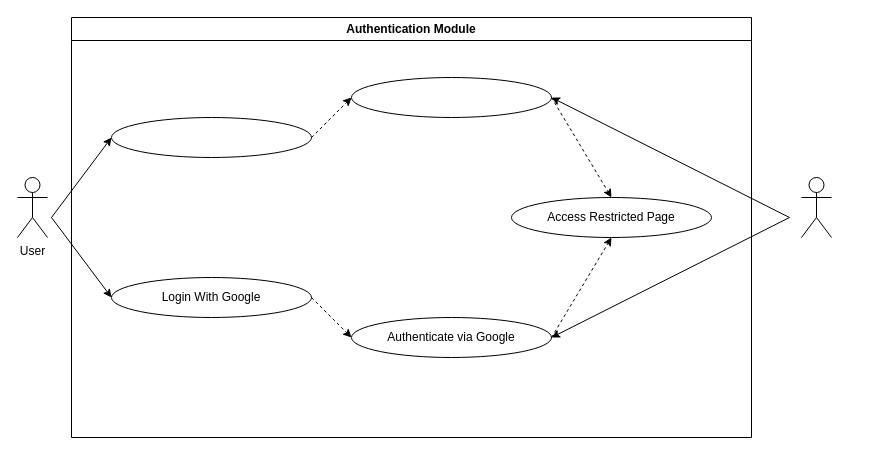
Some shapes in this 869 by 455 pixel diagram are drawn without their labels. Here are the shapes that lost their labels. From the top down, the centre of each, then its label:
At pixel 451 97: "Authenticate via Github".
At pixel 211 137: "Login With GitHub".
At pixel 816 207: "3rd Party Authenticator".
